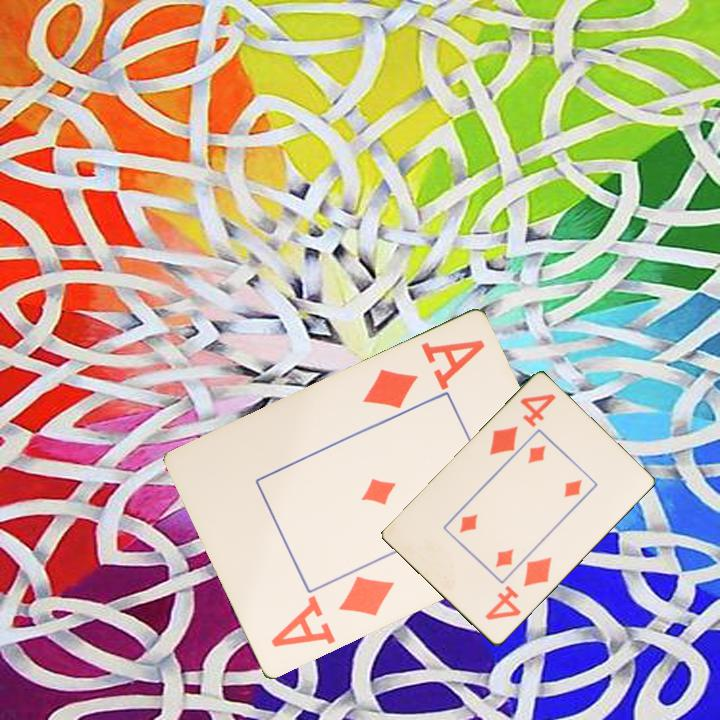4d: (482, 554, 555, 624), (486, 390, 559, 459)
Ad: (267, 573, 397, 651), (359, 336, 488, 412)
